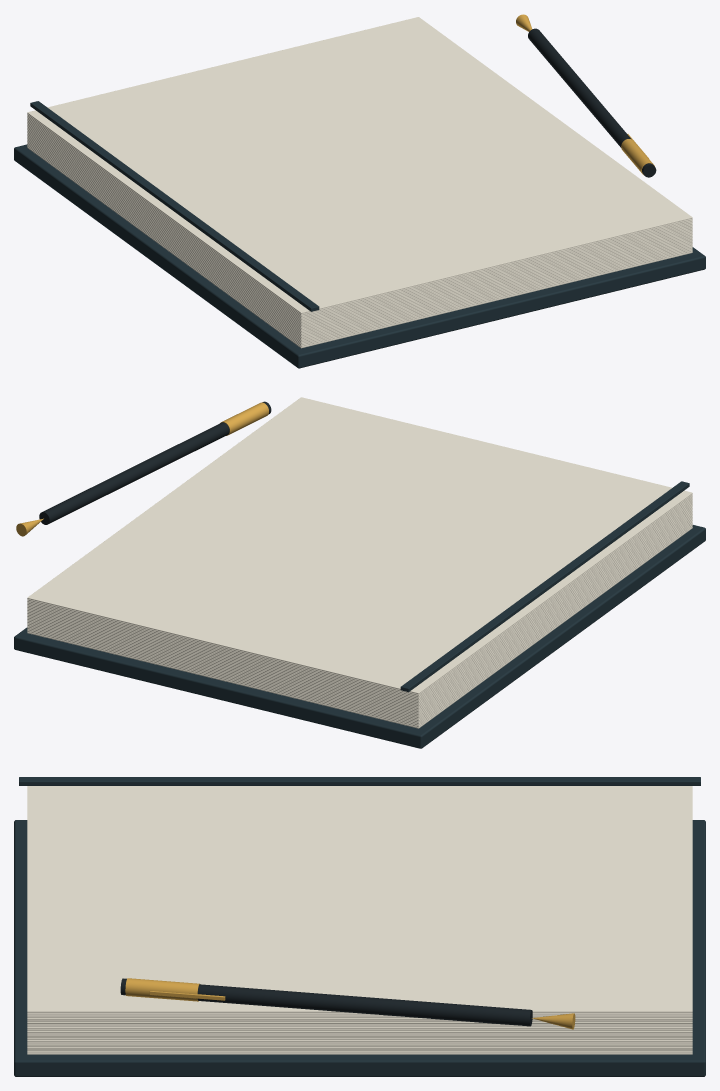
File: finance.glb
The picture shows the model from 3 angles, top to bottom: view 1: azimuth 30°, elevation 25°; view 2: azimuth 150°, elevation 25°; view 3: azimuth 270°, elevation 25°; orthographic projection. The views are drawn at different scales.
Parts seen in each view (by area): view 1: Research folio, Writing instrument; view 2: Research folio, Writing instrument; view 3: Research folio, Writing instrument.
Part boxes in pixels (bbox=[...]): Research folio: bbox=[14, 17, 705, 368]; Writing instrument: bbox=[516, 14, 656, 177]; Research folio: bbox=[14, 397, 705, 748]; Writing instrument: bbox=[16, 401, 271, 536]; Research folio: bbox=[14, 777, 705, 1076]; Writing instrument: bbox=[120, 978, 575, 1029].
Bounding box in the file's own units: 1.94 × 0.3045 × 2.08.
